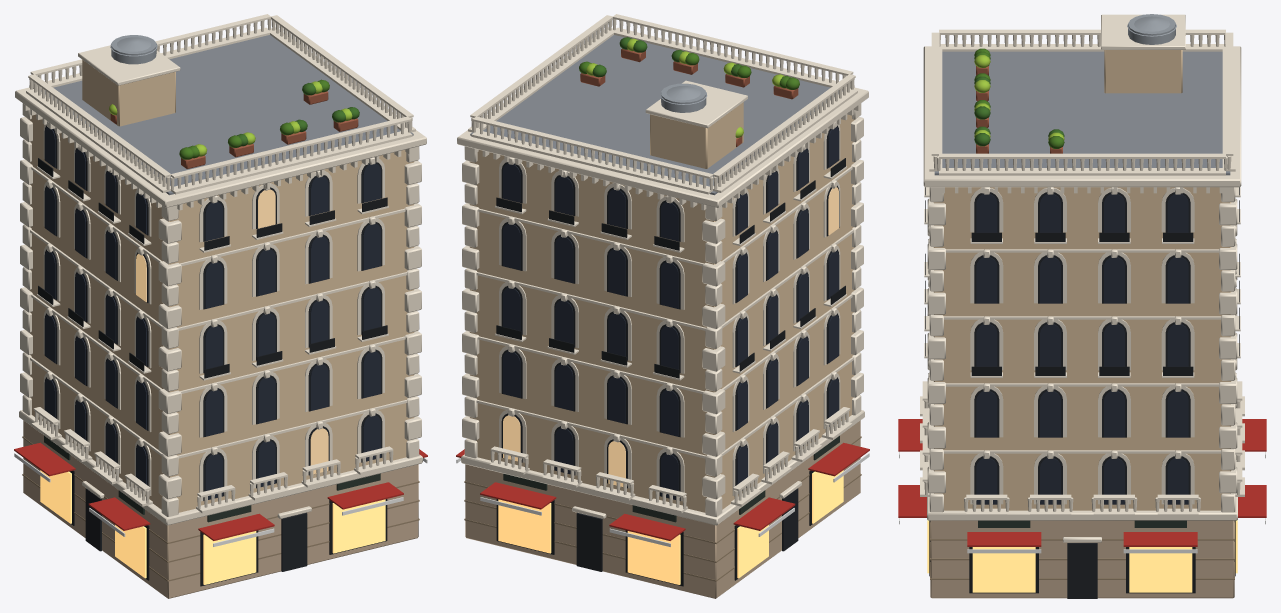
The model's file is building_it_b.fbx.
The picture shows the model from 3 angles, left to right: view 1: azimuth 30°, elevation 25°; view 2: azimuth 150°, elevation 25°; view 3: azimuth 270°, elevation 25°; orthographic projection. The views are drawn at different scales.
Parts seen in each view (by area): view 1: building_it_b; view 2: building_it_b; view 3: building_it_b.
Part boxes in pixels (x1,y1,x2,y2): building_it_b: [14, 14, 427, 598]; building_it_b: [456, 14, 869, 598]; building_it_b: [898, 14, 1266, 598].
Bounding box in the file's own units: 16.94 × 24.7 × 16.94.
